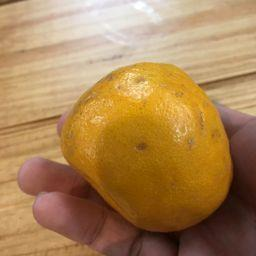Ripe: (57, 61, 232, 231)
